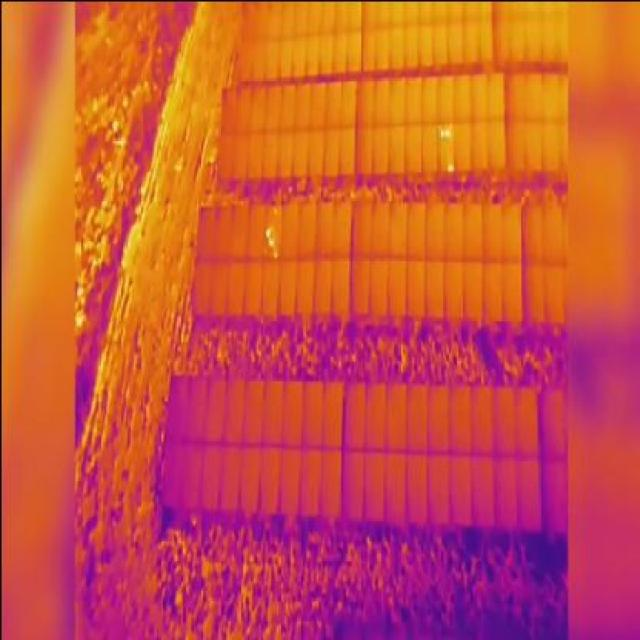hotspot: (434, 122, 444, 141), (441, 160, 454, 172), (440, 122, 449, 136), (262, 228, 270, 238), (271, 247, 277, 256), (266, 240, 272, 246)
